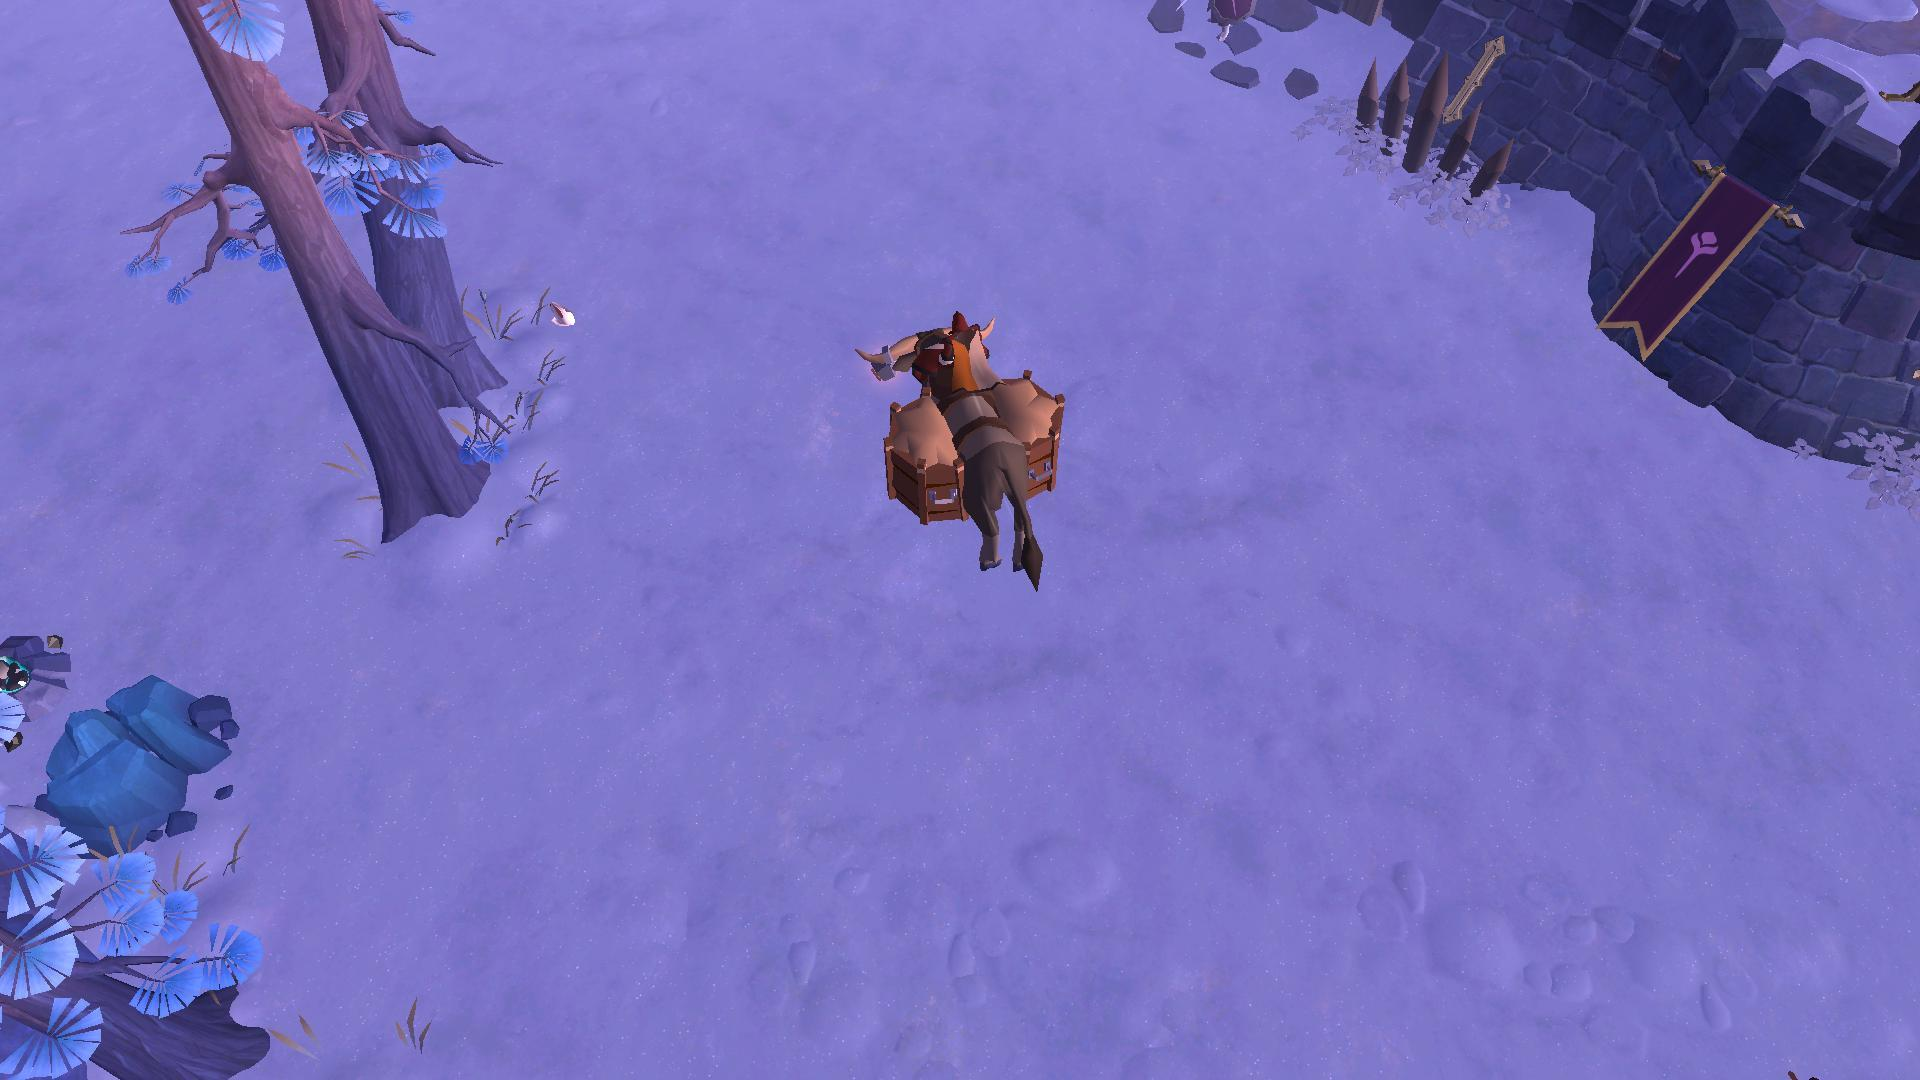rock_t4: (33, 670, 233, 853)
